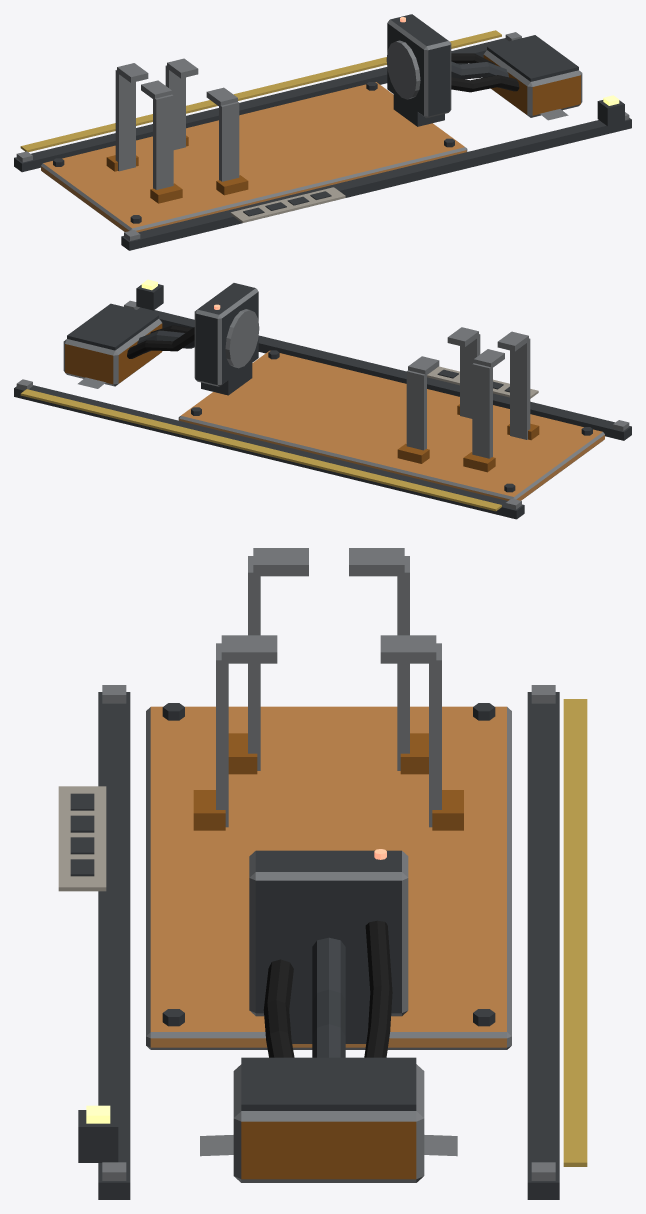
Rendered from ship_transmitter_cradle.fbx.
3 views of the same model, one above another, from view 1: azimuth 30°, elevation 25°; view 2: azimuth 150°, elevation 25°; view 3: azimuth 270°, elevation 25° (orthographic). The views are drawn at different scales.
Visible parts, largest first — view 1: ShipTransmitterCradle; view 2: ShipTransmitterCradle; view 3: ShipTransmitterCradle.
Part boxes in pixels (x1=…): ShipTransmitterCradle: x1=14, y1=14, x2=631, y2=250; ShipTransmitterCradle: x1=14, y1=279, x2=631, y2=519; ShipTransmitterCradle: x1=58, y1=548, x2=587, y2=1199.
Bounding box in the file's own units: 219 × 46.65 × 99.75.
